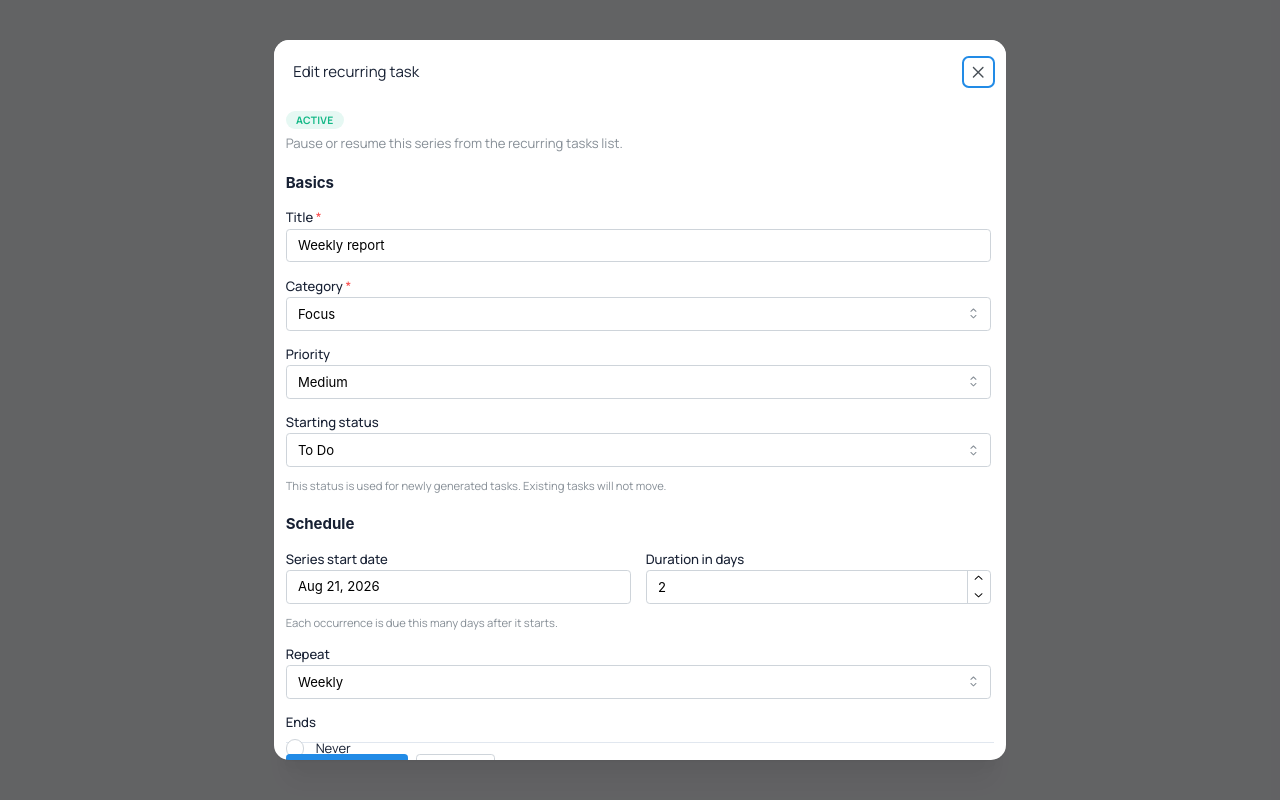
Test case: RecurringSeriesEditModal › excludes Done and archived columns from starting status choices
Expected: the field labelled "Title" is shown, x1=286 y1=228 x2=991 y2=262
Step 1. Click the field labelled "Starting status" → (638, 450), box x1=286 y1=433 x2=991 y2=467
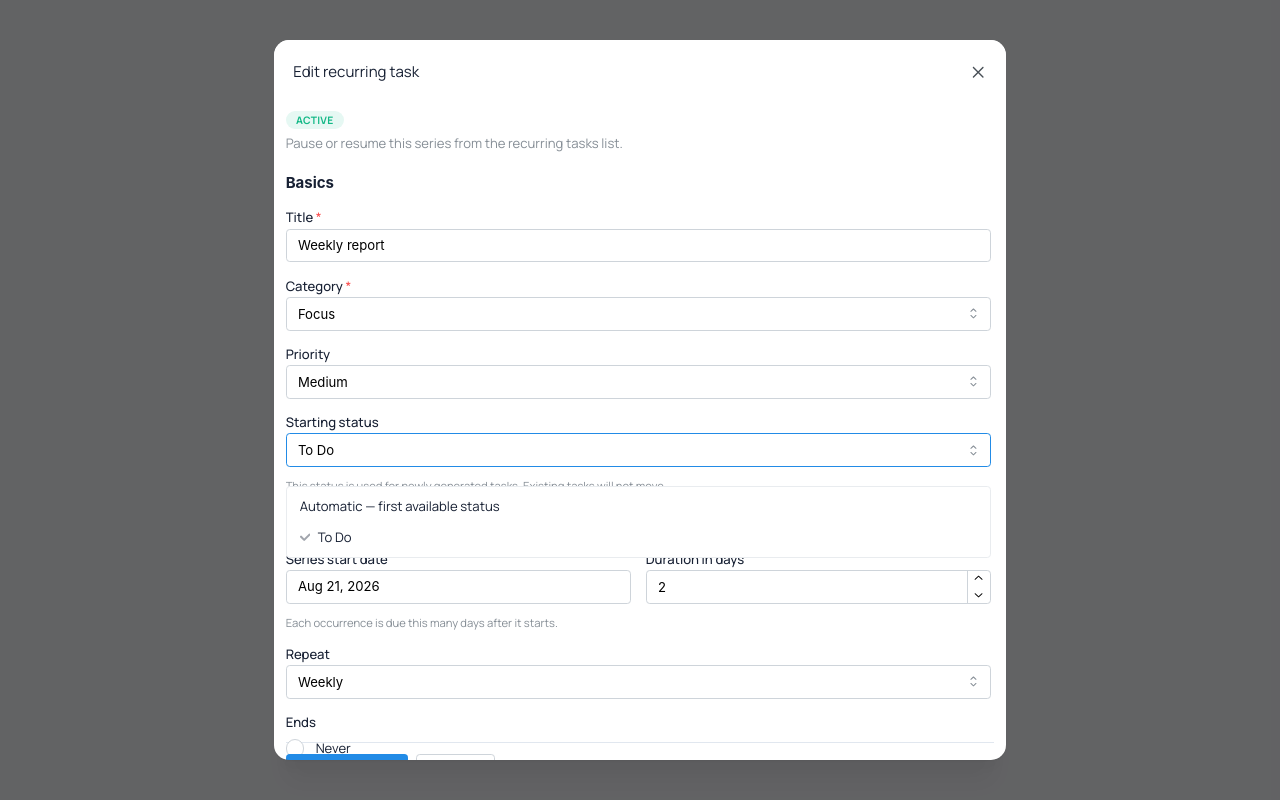
Now the option "To Do" is shown, box x1=300 y1=528 x2=352 y2=546
Now the option "Automatic — first available status" is shown, box x1=300 y1=497 x2=500 y2=515
